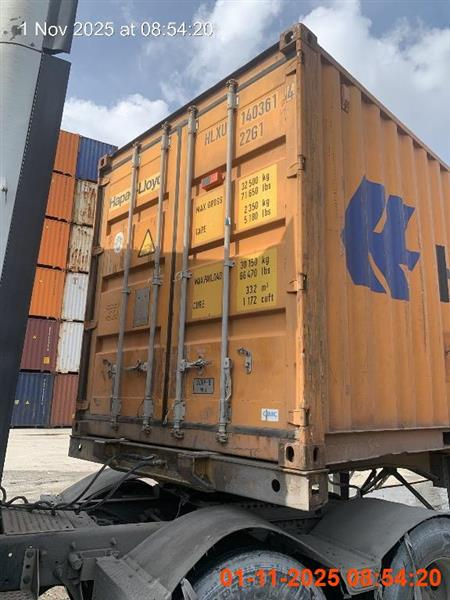rust: (67, 23, 449, 513), (0, 465, 448, 599)
